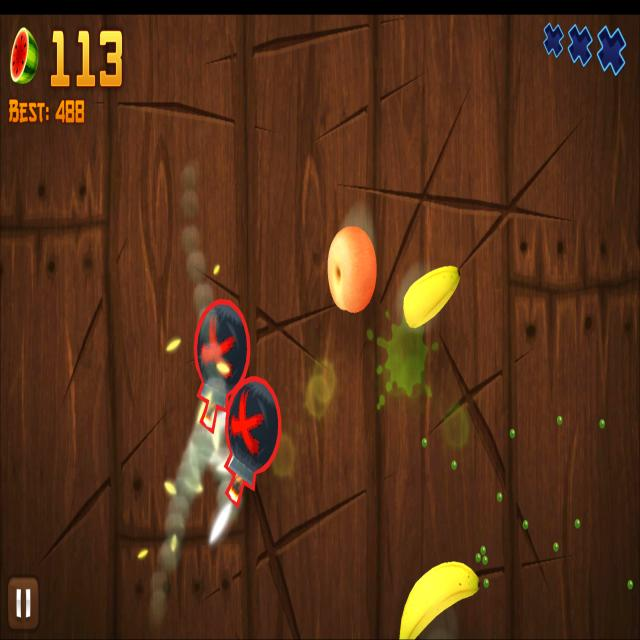bomb: (193, 296, 252, 436), (224, 376, 283, 509)
fruit: (398, 559, 480, 640), (327, 226, 378, 315), (402, 264, 462, 330)
